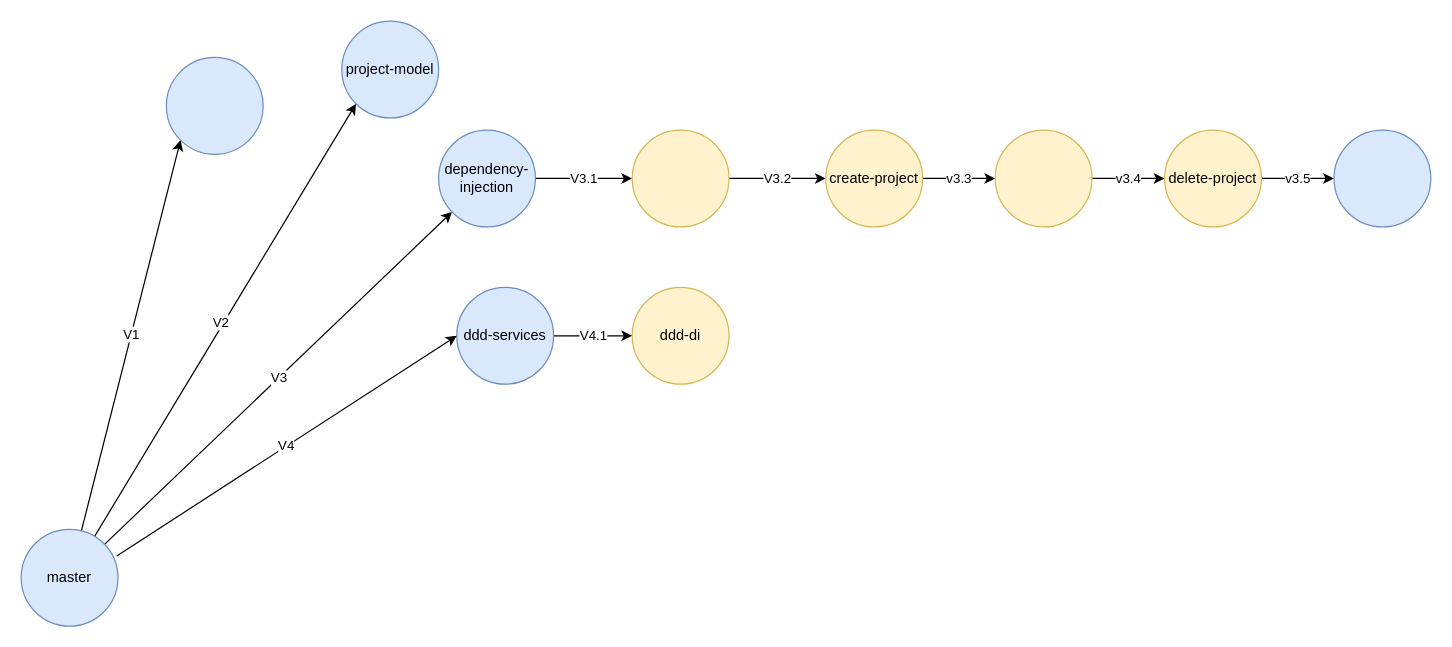
This 1452x647 diagram has some shape labels left out. Each missing label, with the centre of its shape:
"landing-page" goes at (x=1382, y=178).
"model-binding" goes at (x=214, y=105).
"project-manager" goes at (x=680, y=178).
"update-project" goes at (x=1043, y=178).
